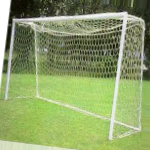goals: (4, 10, 147, 140)
